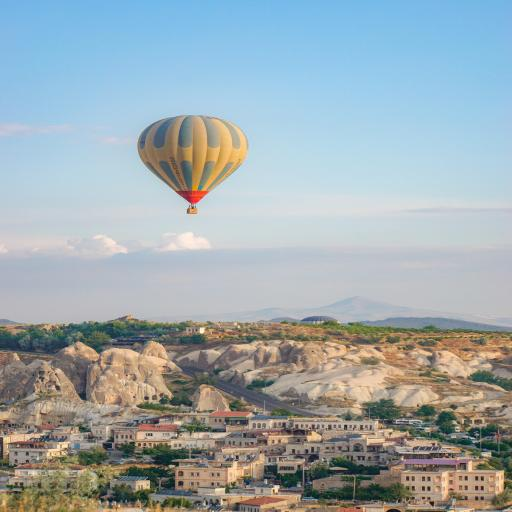hot air ballon: (134, 108, 248, 214)
